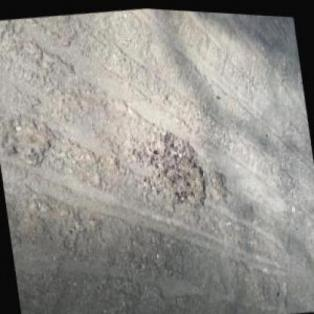Hueco: (134, 117, 212, 217), (208, 166, 230, 196)
